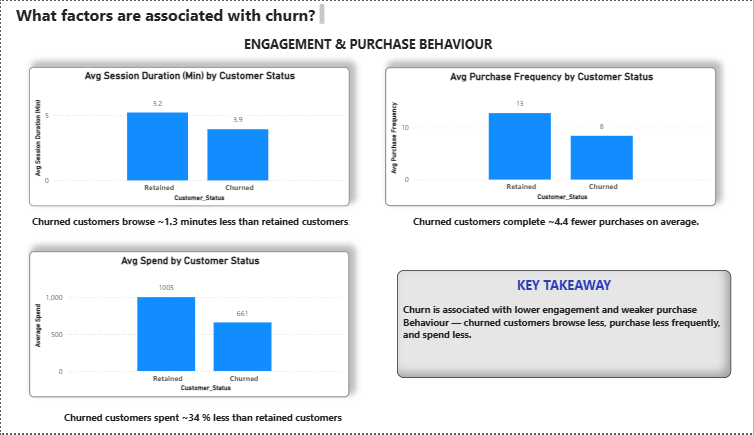

The page's visual inventory and layout, read from the dashboard file:
{"tool":"powerbi","page":{"name":"Churn Drivers","canvas":[1280,720],"ordinal":1},"visuals":[{"type":"textbox","box":[20,0,524.1,52.1],"z":0},{"type":"textbox","box":[400,52,468,42],"z":1000},{"type":"lineClusteredColumnComboChart","title":"Avg Session Duration (Min) by Customer Status","fields":{"Y":["customers.Avg Session Duration (Min)"],"Category":["customers.Customer_Status"]},"box":[46,110,534,232],"z":2000},{"type":"textbox","box":[46,352,588.6,35.7],"z":3000},{"type":"lineStackedColumnComboChart","title":"Avg Purchase Frequency by Customer Status","fields":{"Category":["customers.Customer_Status"],"Y":["customers.Avg Purchase Frequency"]},"box":[640,110,551.7,231.7],"z":4000},{"type":"textbox","box":[682,352,501.7,35],"z":5000},{"type":"lineClusteredColumnComboChart","title":"Avg Spend by Customer Status","fields":{"Category":["customers.Customer_Status"],"Y":["customers.Average Spend"]},"box":[46,416,534,244],"z":6000},{"type":"textbox","box":[100,678.3,480,41.7],"z":7000},{"type":"textbox","box":[660,448.3,556.7,180],"z":8000}]}

Visuals, with their boxes in screenshot pixels (x1, y1, x2, y2), scaled from the page's 1280x720 canvas onto the 754x435 screenshot:
textbox: [12,0,321,31]
textbox: [236,31,511,57]
"Avg Session Duration (Min) by Customer Status" lineClusteredColumnComboChart: [27,66,342,207]
textbox: [27,213,374,234]
"Avg Purchase Frequency by Customer Status" lineStackedColumnComboChart: [377,66,702,206]
textbox: [402,213,697,234]
"Avg Spend by Customer Status" lineClusteredColumnComboChart: [27,251,342,399]
textbox: [59,410,342,434]
textbox: [389,271,717,380]
